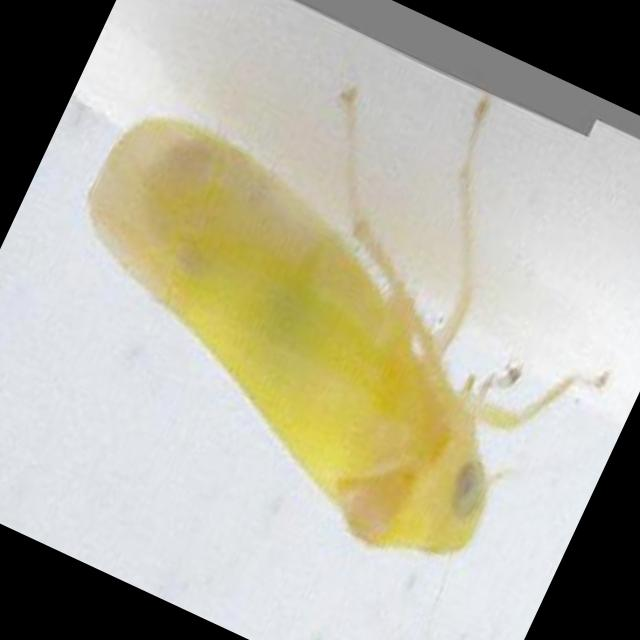green-leafhopper: (8, 74, 596, 581)
